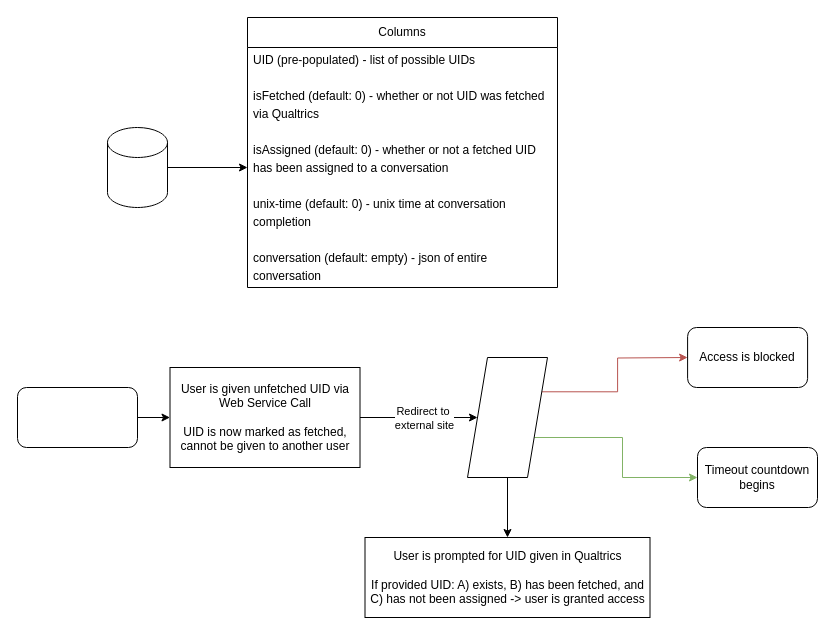
The diagram is 835 pixels wide and 635 high, and some of its shapes have lost their labels. The centre of each missing label's shape, as x and y in pixels:
"Qualtrics" goes at (77,417).
"Security Screen" goes at (507,417).
"SQL Database" goes at (137,167).
